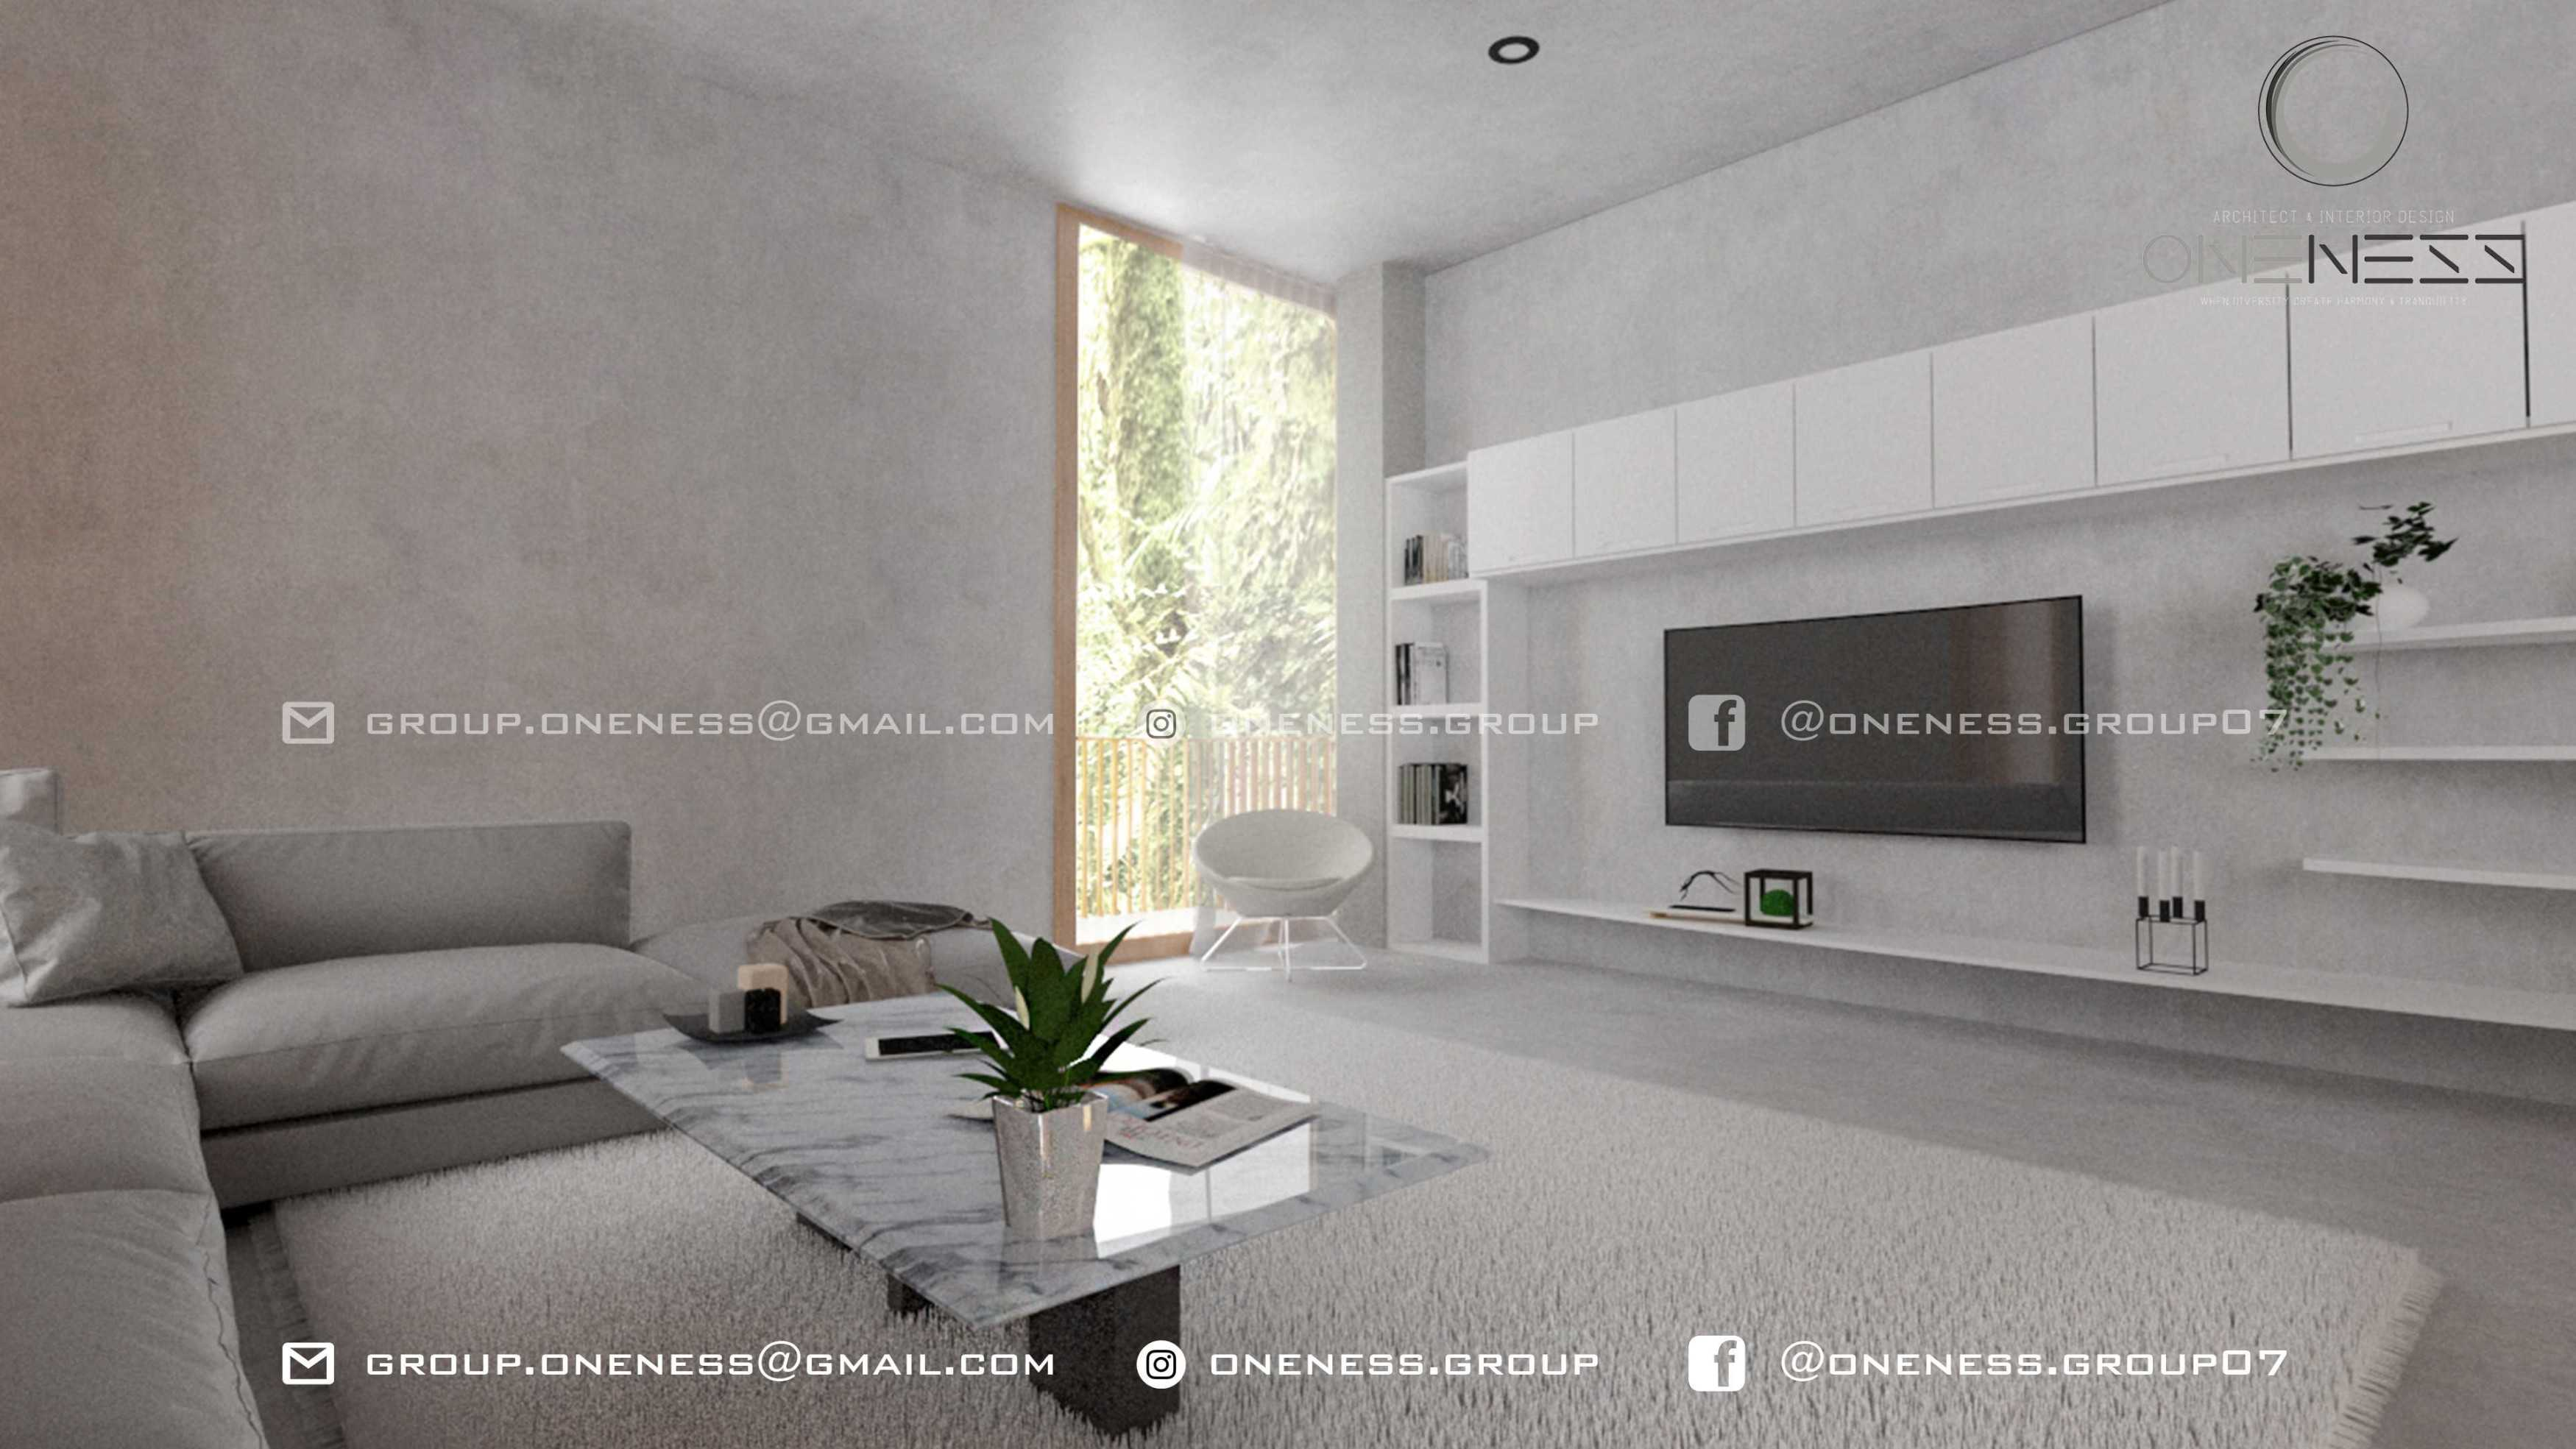kursi: (1182, 793, 1373, 962)
meja: (580, 985, 1502, 1417)
sova: (0, 704, 695, 1449)
tanaman: (948, 913, 1116, 1253)
